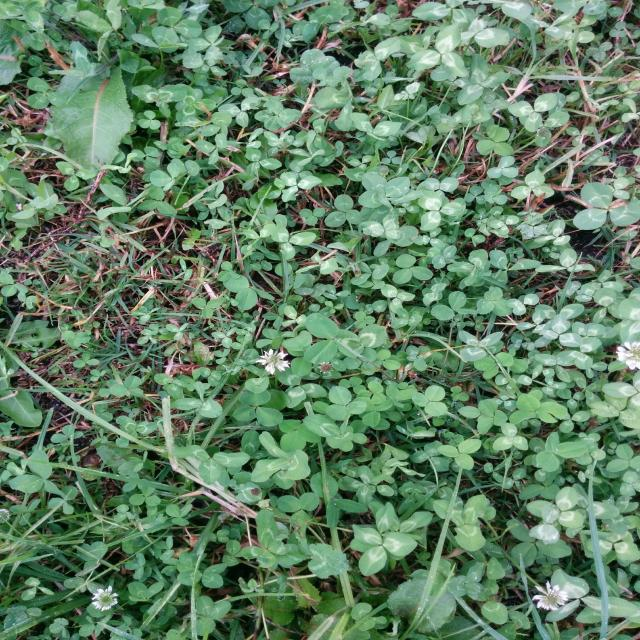Four Leaf Clover: (358, 172, 422, 223)
